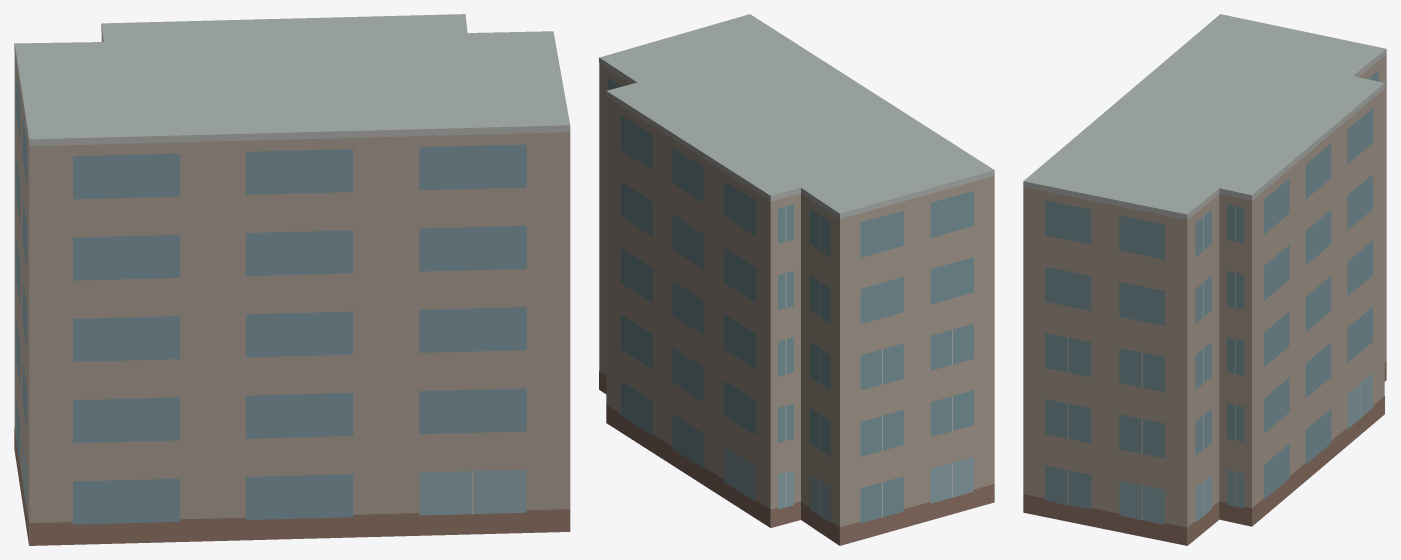
File: survey-upis-32845398.glb
3 views of the same model, side by side, from view 1: azimuth 30°, elevation 25°; view 2: azimuth 150°, elevation 25°; view 3: azimuth 270°, elevation 25° (orthographic). The views are drawn at different scales.
Parts seen in each view (by area): view 1: survey-upis-32845398.tmp; view 2: survey-upis-32845398.tmp; view 3: survey-upis-32845398.tmp.
Boxes of the visible parts, x1,y1,x2,y2 form: survey-upis-32845398.tmp: (14, 14, 570, 545); survey-upis-32845398.tmp: (599, 14, 994, 545); survey-upis-32845398.tmp: (1023, 14, 1386, 545).
Size of the model in its own units: 18.7 by 14.4 by 14.32.
